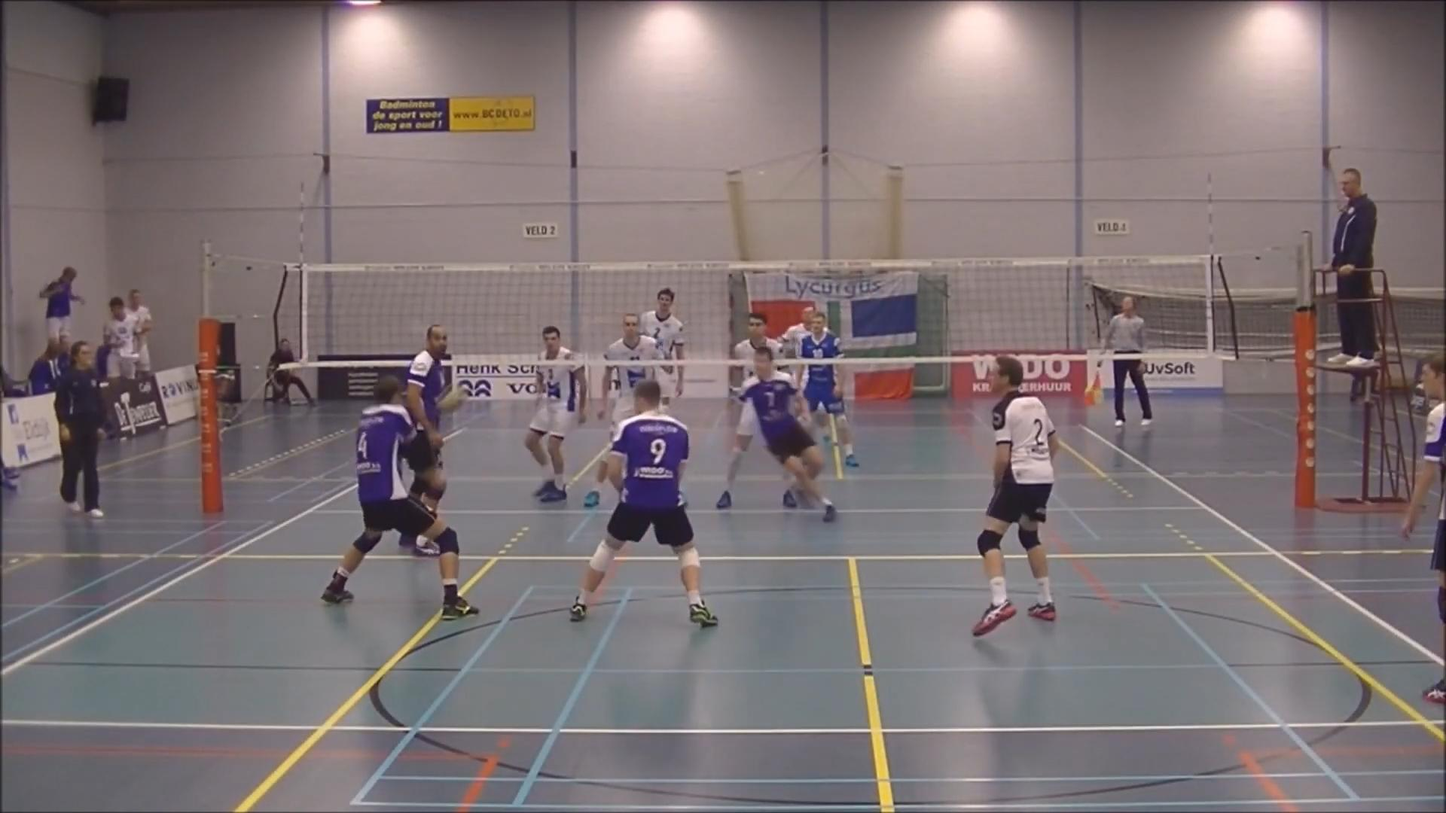Player: (571, 379, 718, 626), (972, 355, 1058, 635), (742, 348, 836, 522), (715, 312, 782, 509), (525, 325, 587, 502), (1401, 354, 1445, 537), (404, 324, 447, 510), (597, 313, 662, 431), (803, 364, 858, 467), (640, 288, 685, 361), (780, 306, 816, 358)
Receive: (317, 371, 481, 623)
ball: (433, 383, 468, 414)
